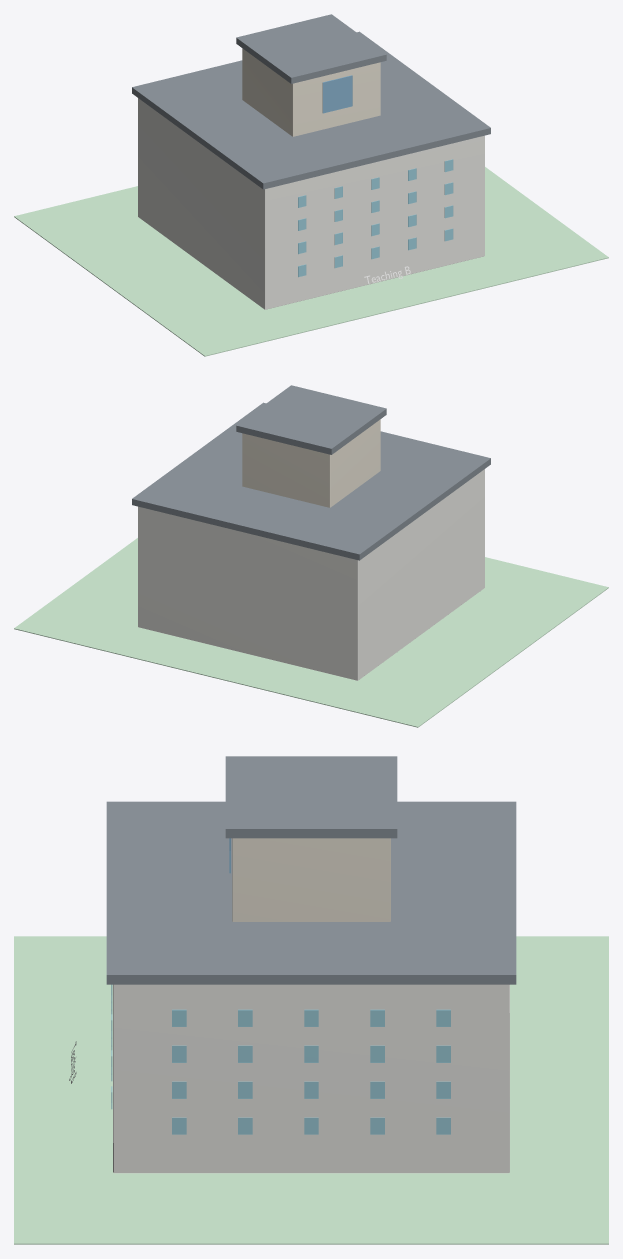
The model's file is teaching_building_b.glb.
3 views of the same model, one above another, from view 1: azimuth 30°, elevation 25°; view 2: azimuth 150°, elevation 25°; view 3: azimuth 270°, elevation 25° (orthographic). The views are drawn at different scales.
Visible parts, largest first — view 1: teaching_b_body, teachingbuildingb.001_base_tile, teaching_b_roof, teaching_b_tower, teaching_b_tower_roof, teaching_b_clock_panel; view 2: teaching_b_body, teachingbuildingb.001_base_tile, teaching_b_roof, teaching_b_tower, teaching_b_tower_roof; view 3: teachingbuildingb.001_base_tile, teaching_b_body, teaching_b_roof, teaching_b_tower_roof, teaching_b_tower.
Part boxes in pixels (x1,y1,x2,y2): teaching_b_body: [138, 98, 484, 309]; teachingbuildingb.001_base_tile: [14, 167, 608, 356]; teaching_b_roof: [132, 31, 490, 189]; teaching_b_tower: [242, 48, 380, 136]; teaching_b_tower_roof: [236, 14, 386, 83]; teaching_b_clock_panel: [322, 75, 352, 113]; teaching_b_body: [138, 469, 484, 680]; teachingbuildingb.001_base_tile: [14, 538, 608, 727]; teaching_b_roof: [132, 402, 490, 560]; teaching_b_tower: [242, 419, 380, 507]; teaching_b_tower_roof: [236, 385, 386, 454]; teachingbuildingb.001_base_tile: [14, 936, 608, 1244]; teaching_b_body: [113, 984, 509, 1173]; teaching_b_roof: [106, 801, 516, 984]; teaching_b_tower_roof: [225, 756, 397, 838]; teaching_b_tower: [232, 838, 390, 921].
Bounding box in the file's own units: 55 × 24.91 × 45.
